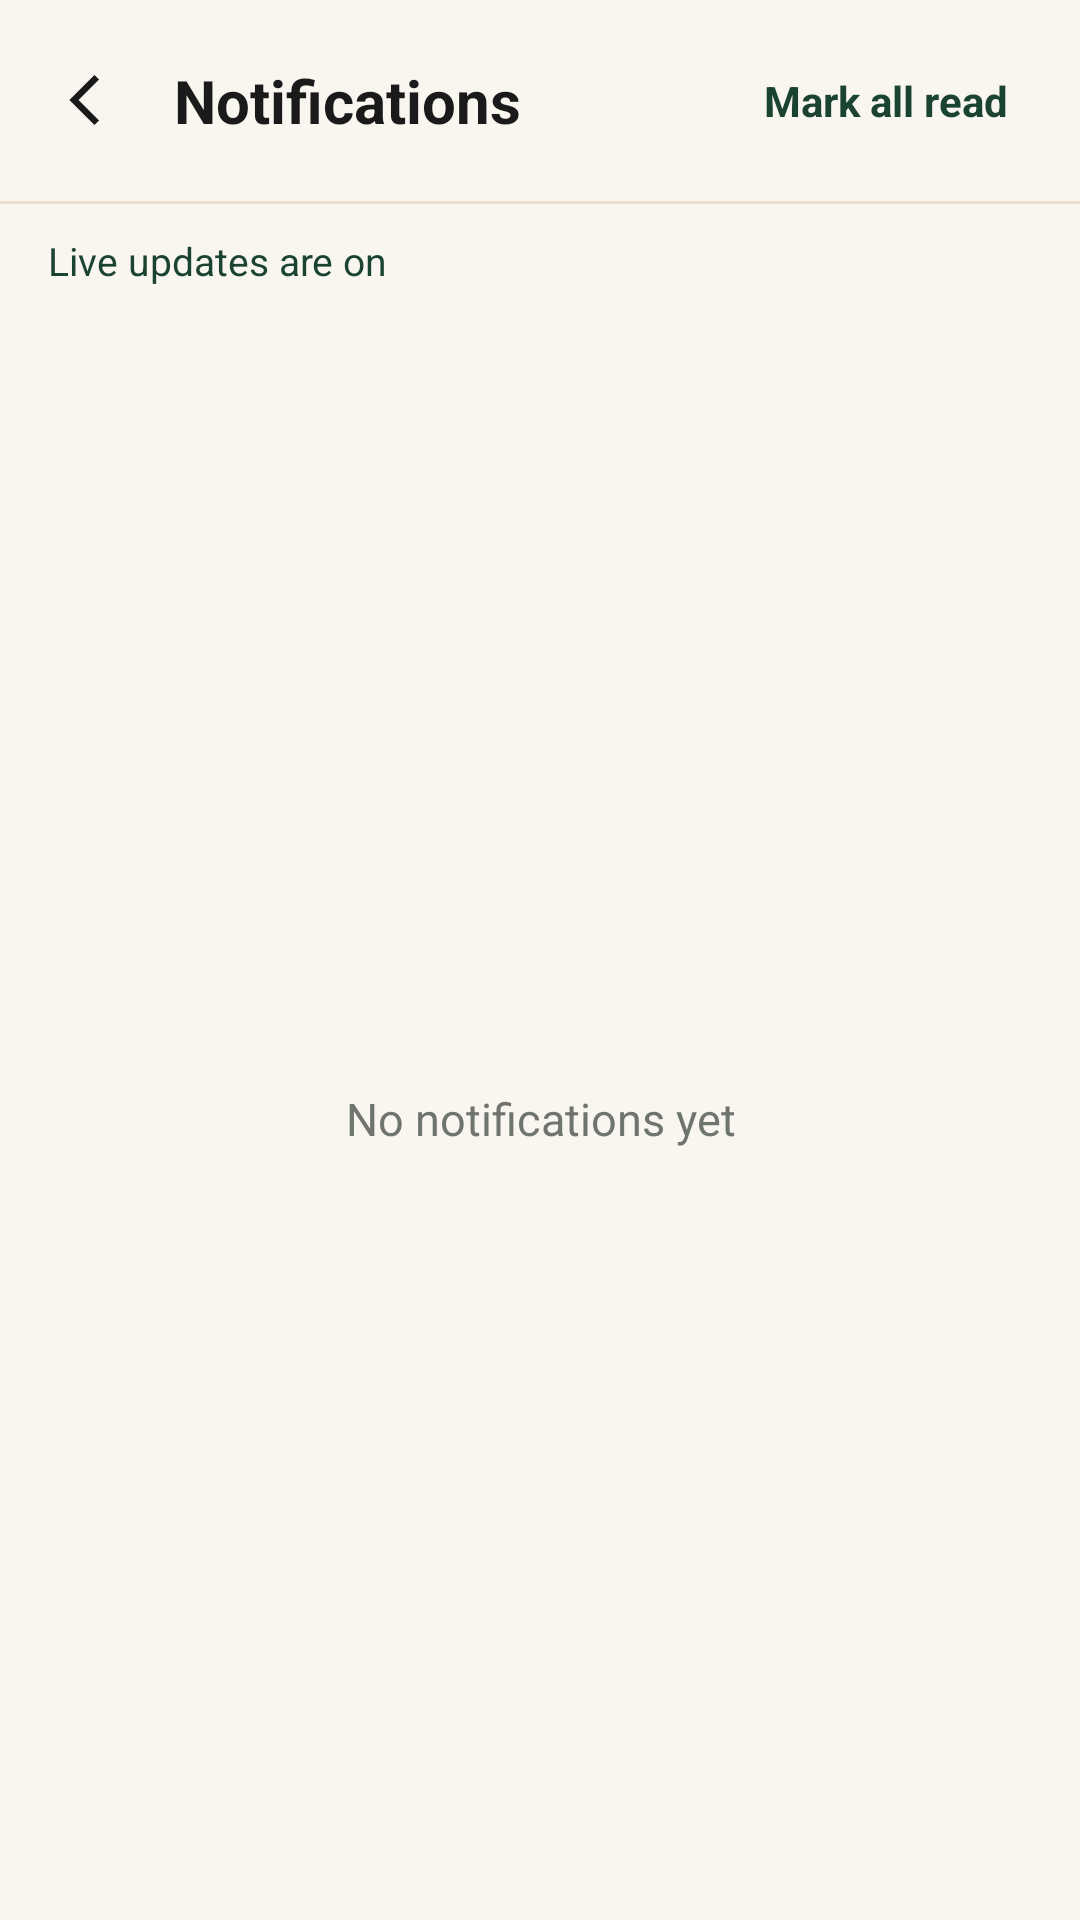

Named icons in this screenshot (1080px x 1920px) and their bounding boxes, (x1, y1, x2, y2):
Back: (69, 75, 99, 125)
